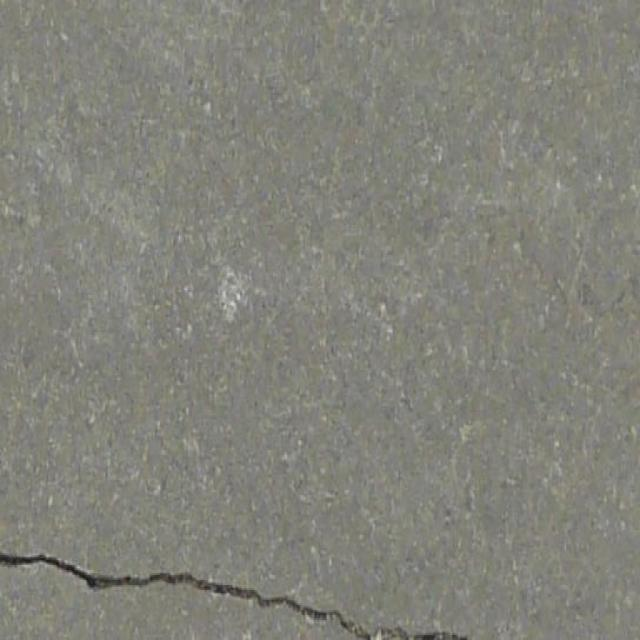crack: (1, 540, 472, 638)
